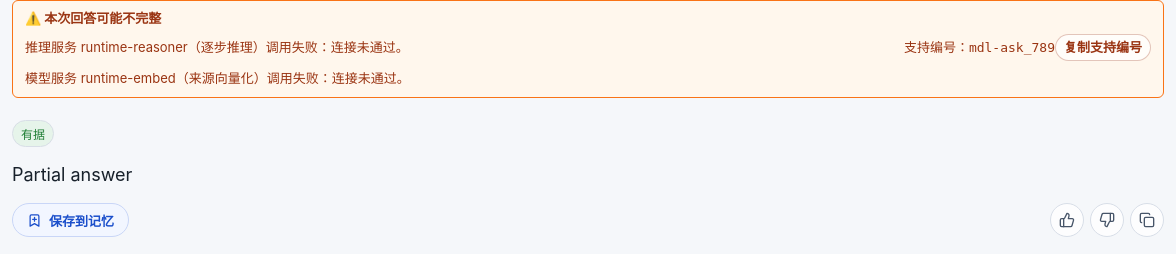
Scenario: copies the returned support id
The width and height of the screenshot is (1176, 254).
Click the button "复制支持编号" at point(1103, 47), box [1055, 34, 1151, 61]
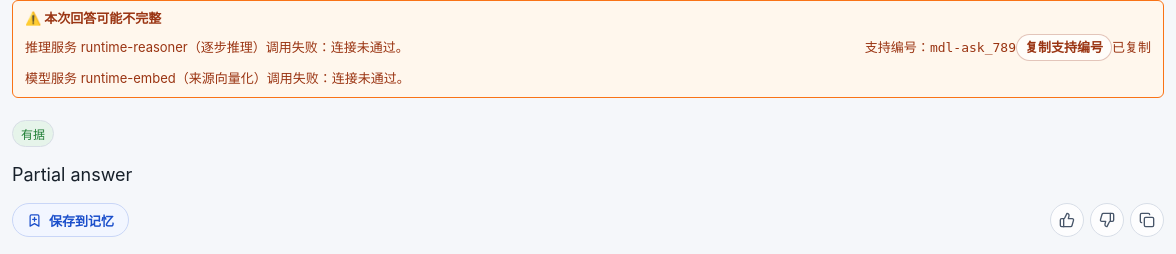
Expected: the message reads "已复制", [1112, 38, 1151, 54]
